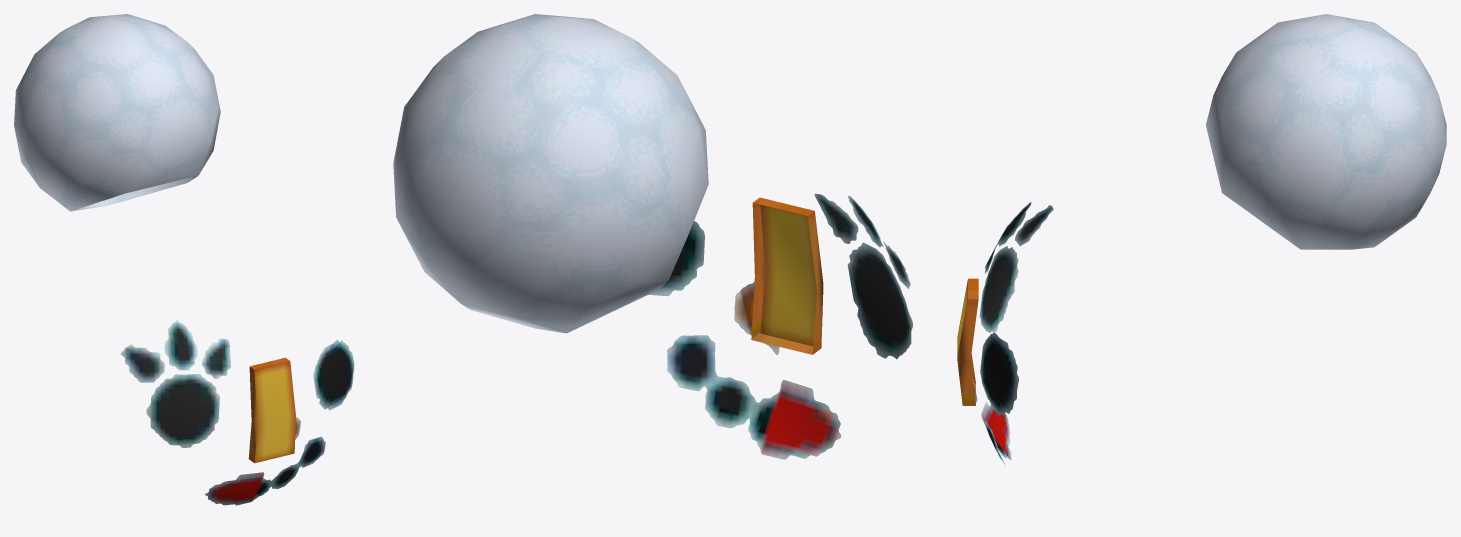
Rendered from snowball_faceB.dae.
3 views of the same model, side by side, from view 1: azimuth 30°, elevation 25°; view 2: azimuth 150°, elevation 25°; view 3: azimuth 270°, elevation 25° (orthographic). The views are drawn at different scales.
Parts seen in each view (by area): view 1: snowball_faceB; view 2: snowball_faceB; view 3: snowball_faceB.
Part boxes in pixels (x1,y1,x2,y2): snowball_faceB: [14, 14, 354, 505]; snowball_faceB: [393, 14, 912, 459]; snowball_faceB: [957, 14, 1446, 465].
Bounding box in the file's own units: 23.74 × 35.13 × 34.13.
Materials: 2 (2 with a texture image).
